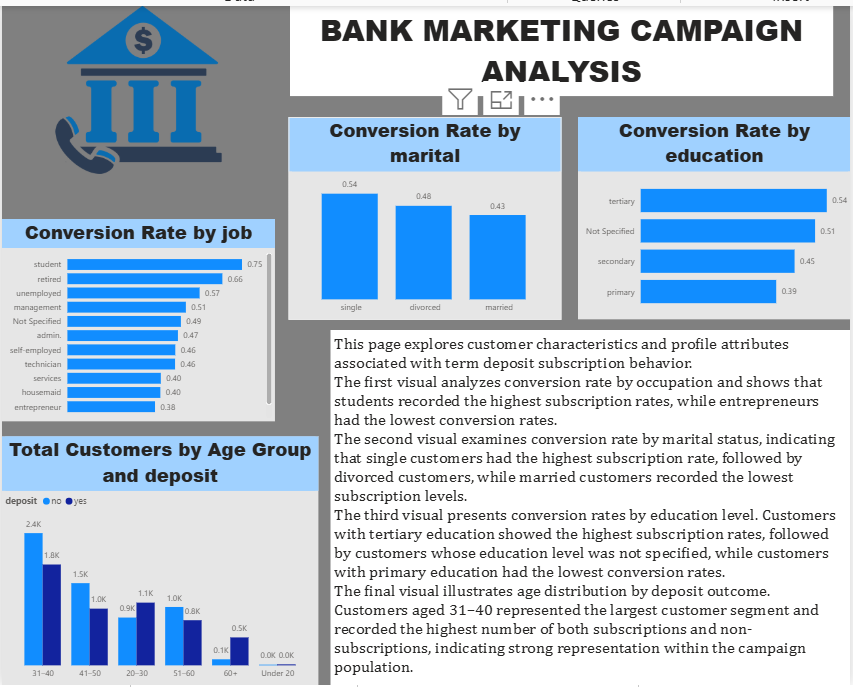

The dashboard page shown, as its layout file describes it:
{"tool":"powerbi","page":{"name":"CUSTOMER PROFILE","canvas":[1250,1000],"ordinal":1},"visuals":[{"type":"textbox","box":[424.2,0,799.7,132.6],"z":0},{"type":"clusteredBarChart","fields":{"Category":["bank_marketing_cleaned.job"],"Y":["bank_marketing_cleaned.Conversion Rate"]},"box":[0,313.7,402.1,298.2],"z":1000},{"type":"clusteredBarChart","fields":{"Category":["bank_marketing_cleaned.education"],"Y":["bank_marketing_cleaned.Conversion Rate"]},"box":[848.3,163.5,402.1,298.2],"z":2000},{"type":"clusteredColumnChart","fields":{"Category":["bank_marketing_cleaned.marital"],"Y":["bank_marketing_cleaned.Conversion Rate"]},"box":[422,163.5,402.1,298.2],"z":3000},{"type":"clusteredColumnChart","fields":{"Category":["bank_marketing_cleaned.Age Group"],"Y":["bank_marketing_cleaned.Total Customers"],"Series":["bank_marketing_cleaned.deposit"]},"box":[0,634,466.1,366.7],"z":4000},{"type":"image","box":[0,0,402.1,247.4],"z":5000},{"type":"textbox","box":[483.8,477.2,766.6,523.6],"z":5001}]}

Visuals, with their boxes in screenshot pixels (x1, y1, x2, y2), scaled from the page's 1250x1000 canvas onto the 853x687 screenshot:
textbox: [289, 0, 835, 91]
clusteredBarChart - bank_marketing_cleaned.job x bank_marketing_cleaned.Conversion Rate: [0, 216, 274, 420]
clusteredBarChart - bank_marketing_cleaned.education x bank_marketing_cleaned.Conversion Rate: [579, 112, 852, 317]
clusteredColumnChart - bank_marketing_cleaned.marital x bank_marketing_cleaned.Conversion Rate: [288, 112, 562, 317]
clusteredColumnChart - bank_marketing_cleaned.Age Group x bank_marketing_cleaned.Total Customers: [0, 436, 318, 686]
image: [0, 0, 274, 170]
textbox: [330, 328, 852, 686]
